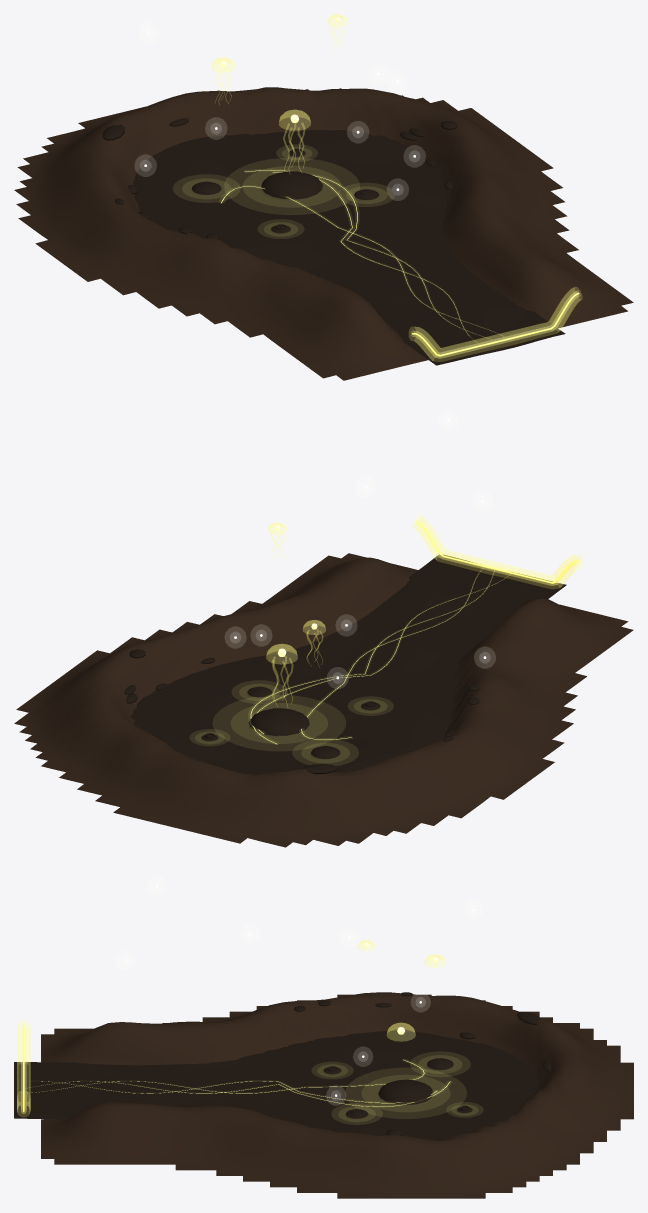
The model's file is mudpit_burbler.glb.
3 views of the same model, one above another, from view 1: azimuth 30°, elevation 25°; view 2: azimuth 150°, elevation 25°; view 3: azimuth 270°, elevation 25° (orthographic). The views are drawn at different scales.
Parts seen in each view (by area): view 1: Burbler_Banks, Burbler_Mud, Burbler_Outlet_0_Ring2, Burbler_Bubble_0_Dome, Burbler_Outlet_0_Ring1, Burbler_Wisp_0_Bell; view 2: Burbler_Banks, Burbler_Mud, Burbler_Outlet_0_Ring2, Burbler_Bubble_0_Dome, Burbler_Outlet_0_Ring1; view 3: Burbler_Banks, Burbler_Mud, Burbler_Outlet_0_Ring2, Burbler_Bubble_0_Dome, Burbler_Outlet_0_Ring1.
Part boxes in pixels (box(x1,y1,x2,y2)): Burbler_Banks: box(14, 87, 633, 380); Burbler_Mud: box(133, 129, 565, 365); Burbler_Outlet_0_Ring2: box(409, 287, 581, 361); Burbler_Bubble_0_Dome: box(260, 171, 323, 201); Burbler_Outlet_0_Ring1: box(411, 291, 579, 358); Burbler_Wisp_0_Bell: box(279, 109, 310, 130); Burbler_Banks: box(14, 553, 633, 847); Burbler_Mud: box(130, 554, 566, 774); Burbler_Outlet_0_Ring2: box(413, 515, 582, 588); Burbler_Bubble_0_Dome: box(248, 708, 310, 737); Burbler_Outlet_0_Ring1: box(415, 519, 580, 585); Burbler_Banks: box(41, 992, 633, 1198); Burbler_Mud: box(14, 1030, 538, 1140); Burbler_Outlet_0_Ring2: box(17, 1020, 30, 1116); Burbler_Bubble_0_Dome: box(377, 1079, 434, 1106); Burbler_Outlet_0_Ring1: box(21, 1023, 26, 1113).
Size of the model in its own units: 4.93 by 2.35 by 6.33.
